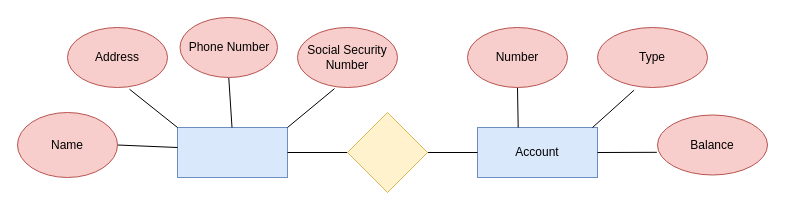
The diagram is 785 pixels wide and 210 high, and some of its shapes have lost their labels. Each missing label, with the centre of its shape:
"Customer" belongs at (x=232, y=152).
"Has" belongs at (x=387, y=152).
